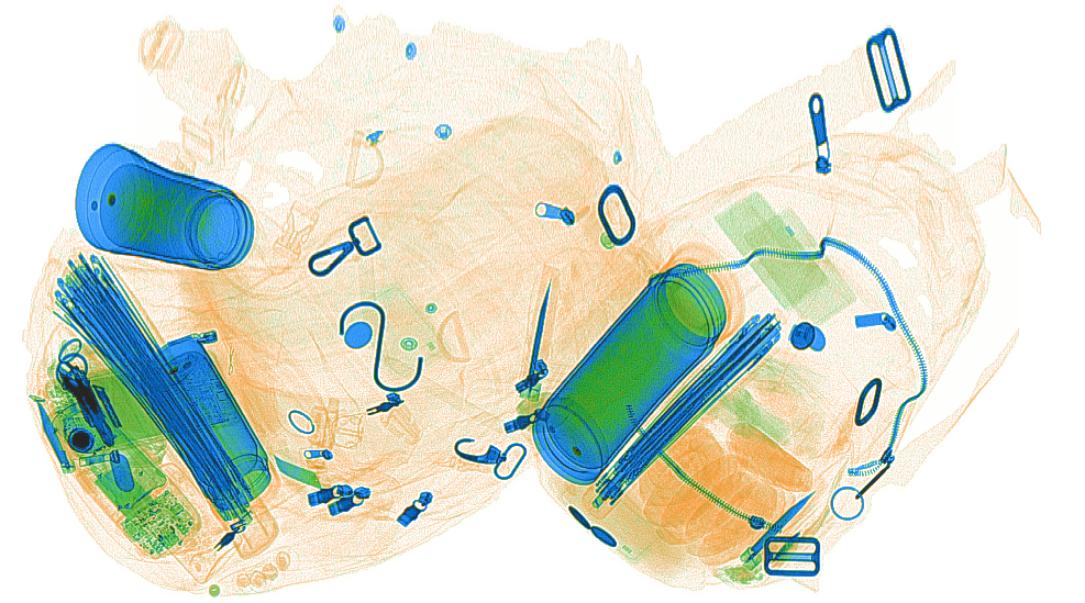knife: (739, 474, 830, 571), (517, 262, 561, 402), (31, 387, 78, 477)
